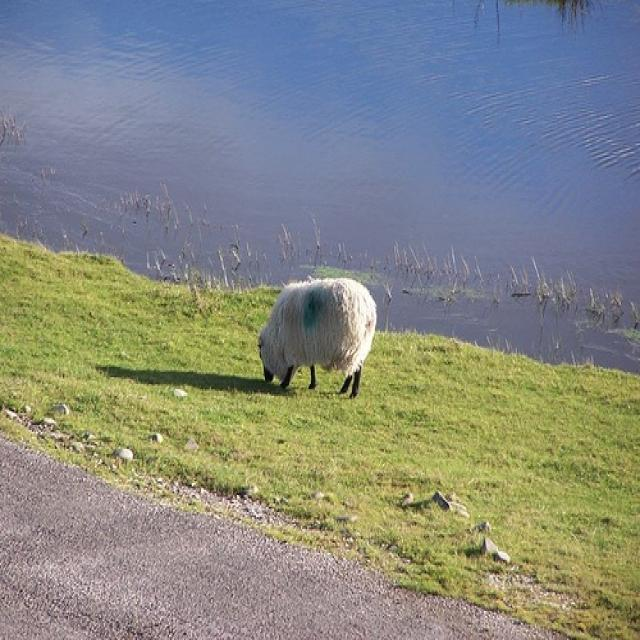sheep: (257, 272, 381, 404)
